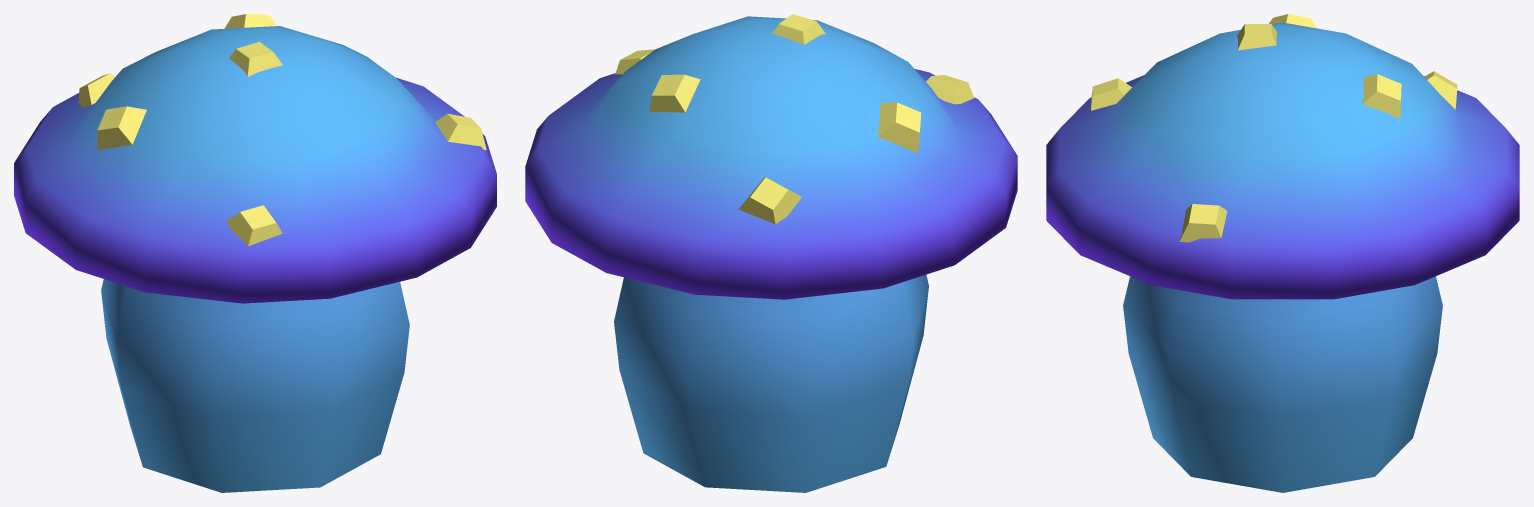
Rendered from Mushrooms_new.fbx.
The picture shows the model from 3 angles, left to right: view 1: azimuth 30°, elevation 25°; view 2: azimuth 150°, elevation 25°; view 3: azimuth 270°, elevation 25°; orthographic projection. The views are drawn at different scales.
Visible parts, largest first — view 1: Mushroom_blue; view 2: Mushroom_blue; view 3: Mushroom_blue.
Part boxes in pixels (bbox=[...]): Mushroom_blue: bbox=[14, 14, 496, 492]; Mushroom_blue: bbox=[525, 14, 1017, 492]; Mushroom_blue: bbox=[1046, 14, 1519, 492].
Size of the model in its own units: 38.86 by 36.51 by 38.86.
